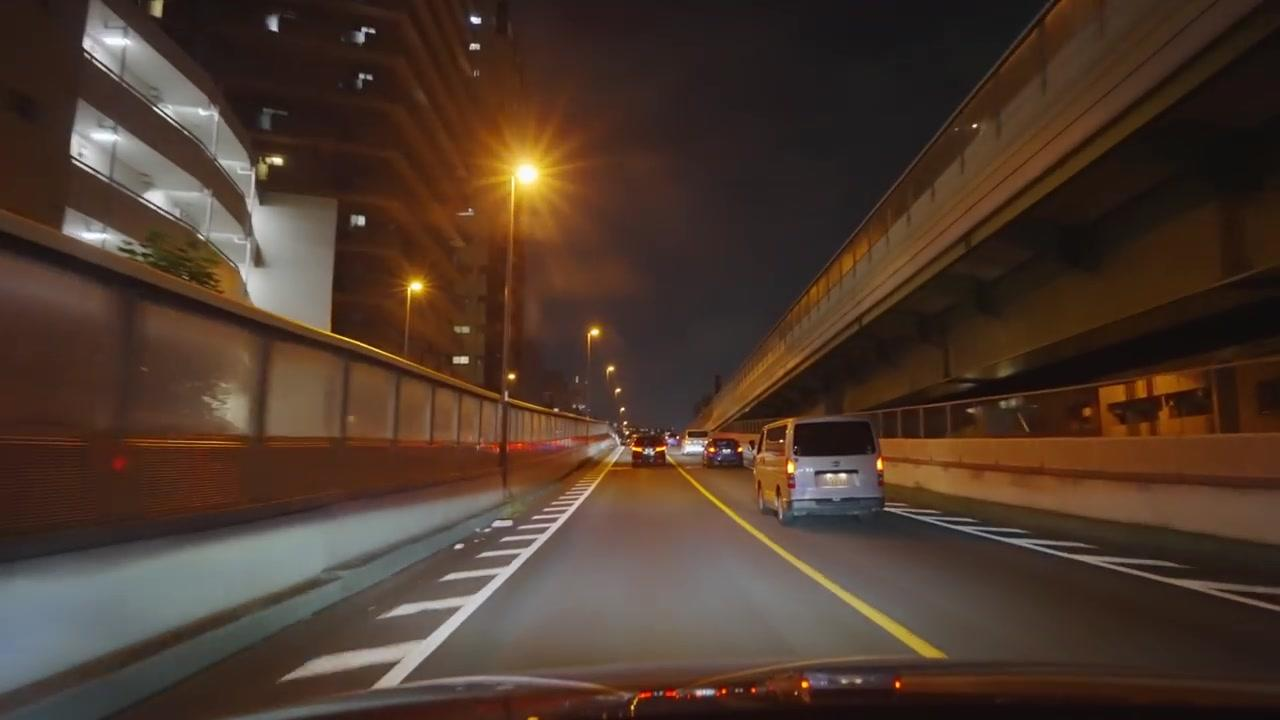car: (752, 416, 886, 524), (630, 432, 668, 465), (703, 437, 743, 468), (683, 436, 707, 457), (740, 441, 756, 467)
train: (4, 220, 612, 542)
